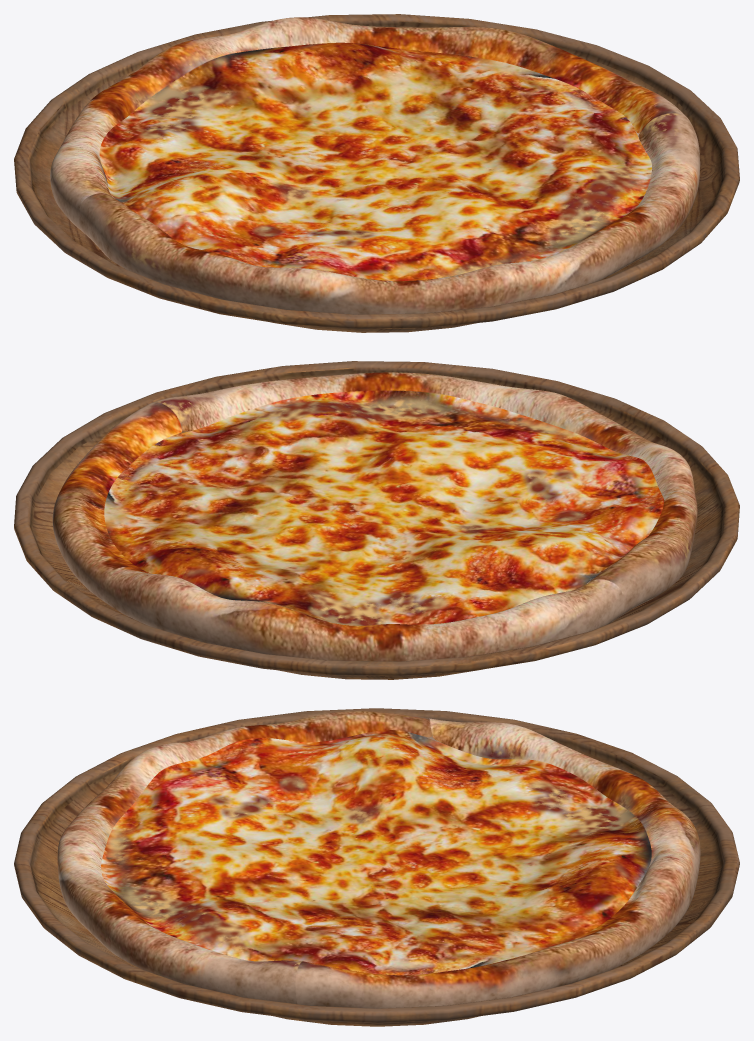
The model's file is Pizza.fbx.
The picture shows the model from 3 angles, top to bottom: view 1: azimuth 30°, elevation 25°; view 2: azimuth 150°, elevation 25°; view 3: azimuth 270°, elevation 25°; orthographic projection.
Parts seen in each view (by area): view 1: piza_low_01:Group259, Object_2; view 2: piza_low_01:Group259, Object_2; view 3: piza_low_01:Group259, Object_2.
Boxes of the visible parts, x1,y1,x2,y2 form: piza_low_01:Group259: (50, 17, 700, 314); Object_2: (14, 14, 739, 332); piza_low_01:Group259: (52, 372, 697, 661); Object_2: (14, 361, 739, 679); piza_low_01:Group259: (57, 711, 700, 1008); Object_2: (14, 708, 739, 1026).
Size of the model in its own units: 5526 by 830 by 5526.
Materials: 2 (2 with a texture image).
